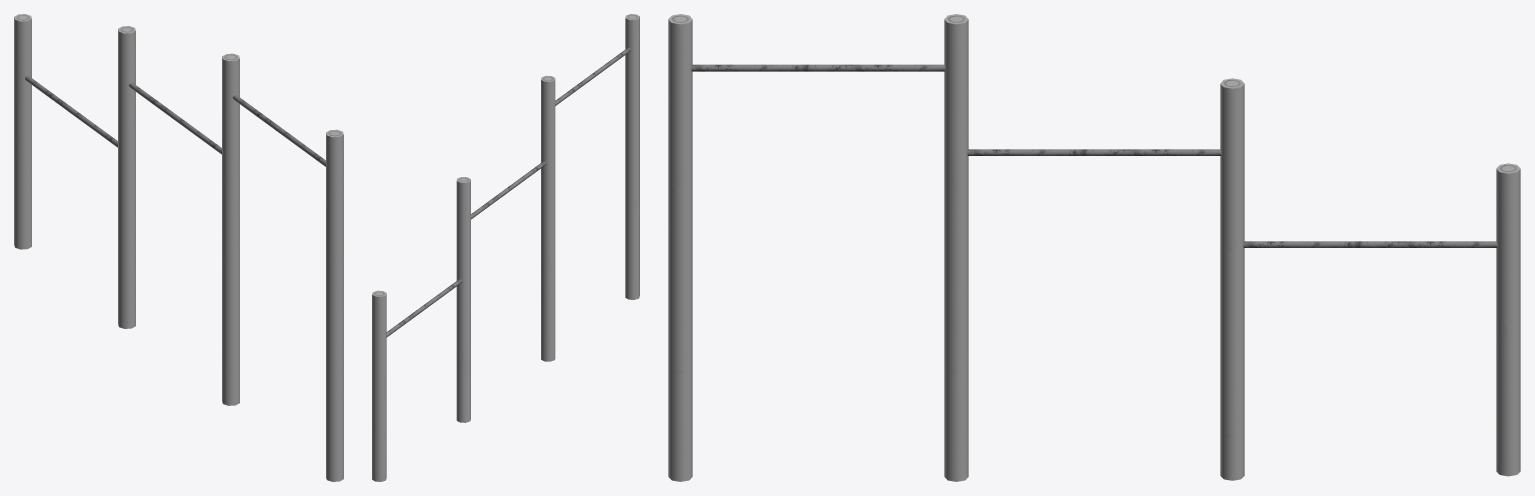
Rendered from MB_Horizontal_Bar_01.fbx.
3 renders of one model, left to right at view 1: azimuth 30°, elevation 25°; view 2: azimuth 150°, elevation 25°; view 3: azimuth 270°, elevation 25°, orthographic. The views are drawn at different scales.
Visible parts, largest first — view 1: MB_Horizontal_Bar_01; view 2: MB_Horizontal_Bar_01; view 3: MB_Horizontal_Bar_01.
Part boxes in pixels (x1,y1,x2,y2): MB_Horizontal_Bar_01: [14, 14, 343, 481]; MB_Horizontal_Bar_01: [372, 14, 639, 481]; MB_Horizontal_Bar_01: [668, 14, 1520, 481].
Size of what is drawn, in the model's own units: 14.34 by 294 by 497.
